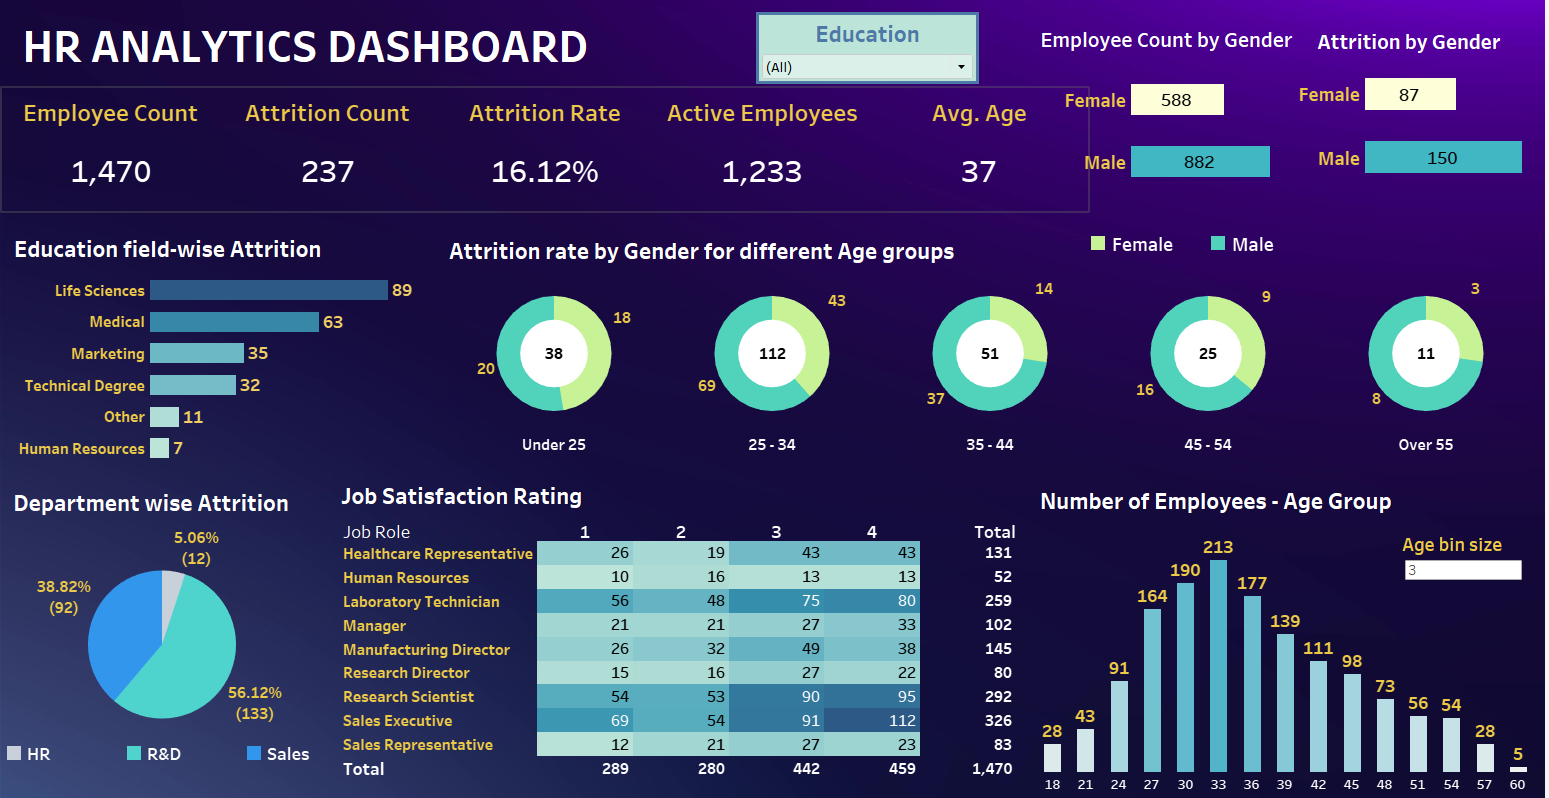

Layout of this report page (visuals, bound fields, positions):
{"tool":"tableau","page":{"name":"Dashboard 1 (2)","canvas":[1000,1000],"units":"permille","ordinal":1},"visuals":[{"type":"title","box":[5.3,10,989.3,62.4]},{"type":"text","box":[22,21.2,476.7,81]},{"type":"filter","title":"KPI","param":"[federated.1gm78kq1qe11sa157bd250uiuqf6].[none:Education:nk]","box":[513.3,21.2,148.7,89.8]},{"type":"text","box":[700.7,36.2,190,37.4]},{"type":"worksheet","title":"Attrition by Gender (2)","mark":"Bar","rows":["Gender"],"cols":["Employee Count"],"box":[710,92.3,150.7,153.4]},{"type":"worksheet","title":"KPI","mark":"Automatic","box":[10.7,116,724,153.4]},{"type":"worksheet","title":"Education- Attrition","mark":"Automatic","rows":["Education Field"],"cols":["Calculation_1810165587508363264"],"box":[16,291.8,280.7,293]},{"type":"legend","title":"Attrition rate by gender","param":"[federated.1gm78kq1qe11sa157bd250uiuqf6].[none:Gender:nk]","box":[733.3,294.3,181.3,49.9]},{"type":"text","box":[16,582.3,202,99.8]},{"type":"worksheet","title":"Job satisfaction rating","mark":"Square","rows":["Job Role"],"cols":["Job Satisfaction"],"box":[234,599.8,452.7,379.1]},{"type":"legend","title":"Department wise attrition","param":"[federated.1gm78kq1qe11sa157bd250uiuqf6].[none:Department:nk]","box":[10.7,930.2,242,64.8]}]}

Visuals, with their boxes on the dashboard's canvas, which has no fixed pixel size, in thousandths of its width and height (x1, y1, x2, y2). These are canvas units, not pixel positions in the 1549x798 screenshot, which may show the page scaled, cropped or inside an application window:
title: select_region(5, 10, 995, 72)
text: select_region(22, 21, 499, 102)
"KPI" filter: select_region(513, 21, 662, 111)
text: select_region(701, 36, 891, 74)
"Attrition by Gender (2)" worksheet (Bar marks): select_region(710, 92, 861, 246)
"KPI" worksheet: select_region(11, 116, 735, 269)
"Education- Attrition" worksheet: select_region(16, 292, 297, 585)
"Attrition rate by gender" legend: select_region(733, 294, 915, 344)
text: select_region(16, 582, 218, 682)
"Job satisfaction rating" worksheet (Square marks): select_region(234, 600, 687, 979)
"Department wise attrition" legend: select_region(11, 930, 253, 995)
